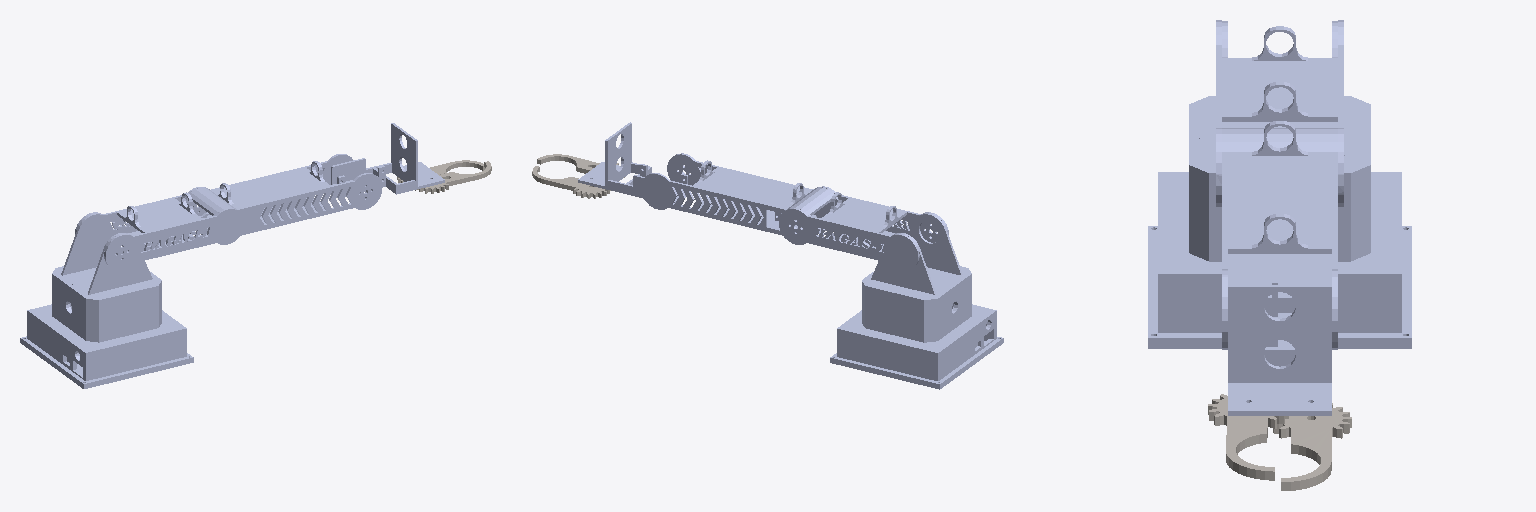
robot.urdf — final:
<?xml version="1.0" encoding="utf-8"?>
<!-- This URDF was automatically created by SolidWorks to URDF Exporter! Originally created by [author] ([email redacted]) 
     Commit Version: 1.6.0-4-g7f85cfe  Build Version: 1.6.7995.38578
     For more information, please see http://wiki.ros.org/sw_urdf_exporter -->
<robot
  name="final">
  <link
    name="base_link">
    <inertial>
      <origin
        xyz="0.00137983216175079 0.000310612881395875 0.0333360553887871"
        rpy="0 0 0" />
      <mass
        value="0.266739387983335" />
      <inertia
        ixx="0.000514301128582685"
        ixy="4.90990868683063E-06"
        ixz="5.29858876653438E-07"
        iyy="0.000513206589601959"
        iyz="1.95354566011673E-06"
        izz="0.000801823035083847" />
    </inertial>
    <visual>
      <origin
        xyz="0 0 0"
        rpy="0 0 0" />
      <geometry>
        <mesh
          filename="package://final/meshes/base_link.STL" />
      </geometry>
      <material
        name="">
        <color
          rgba="0.792156862745098 0.819607843137255 0.933333333333333 1" />
      </material>
    </visual>
    <collision>
      <origin
        xyz="0 0 0"
        rpy="0 0 0" />
      <geometry>
        <mesh
          filename="package://final/meshes/base_link.STL" />
      </geometry>
    </collision>
  </link>
  <link
    name="link1">
    <inertial>
      <origin
        xyz="-6.93889390390723E-18 0.00110733463686402 0.0623788533267749"
        rpy="0 0 0" />
      <mass
        value="0.0312532305229375" />
      <inertia
        ixx="2.68949883948339E-05"
        ixy="-2.49137110664992E-21"
        ixz="-1.5894553410513E-20"
        iyy="1.98163713916657E-05"
        iyz="-9.90514481131139E-07"
        izz="2.89099656219835E-05" />
    </inertial>
    <visual>
      <origin
        xyz="0 0 0"
        rpy="0 0 0" />
      <geometry>
        <mesh
          filename="package://final/meshes/link1.STL" />
      </geometry>
      <material
        name="">
        <color
          rgba="0.792156862745098 0.819607843137255 0.933333333333333 1" />
      </material>
    </visual>
    <collision>
      <origin
        xyz="0 0 0"
        rpy="0 0 0" />
      <geometry>
        <mesh
          filename="package://final/meshes/link1.STL" />
      </geometry>
    </collision>
  </link>
  <joint
    name="joint1"
    type="revolute">
    <origin
      xyz="0 0 0.035"
      rpy="0 0 0" />
    <parent
      link="base_link" />
    <child
      link="link1" />
    <axis
      xyz="0 0 1" />
    <limit
      lower="-3.14"
      upper="3.14"
      effort="2.5"
      velocity="5.7596" />
  </joint>
  <link
    name="link2">
    <inertial>
      <origin
        xyz="0.062504799877127 0.000381539397764002 -0.0284999995745345"
        rpy="0 0 0" />
      <mass
        value="0.0540185355602234" />
      <inertia
        ixx="4.02197758245222E-05"
        ixy="2.18123447228643E-09"
        ixz="-1.41532603052272E-06"
        iyy="0.000113245928040603"
        iyz="-1.40698655562018E-08"
        izz="8.7964337129749E-05" />
    </inertial>
    <visual>
      <origin
        xyz="0 0 0"
        rpy="0 0 0" />
      <geometry>
        <mesh
          filename="package://final/meshes/link2.STL" />
      </geometry>
      <material
        name="">
        <color
          rgba="0.792156862745098 0.819607843137255 0.933333333333333 1" />
      </material>
    </visual>
    <collision>
      <origin
        xyz="0 0 0"
        rpy="0 0 0" />
      <geometry>
        <mesh
          filename="package://final/meshes/link2.STL" />
      </geometry>
    </collision>
  </link>
  <joint
    name="joint2"
    type="revolute">
    <origin
      xyz="0 -0.0285 0.091"
      rpy="1.5707963267949 0 0" />
    <parent
      link="link1" />
    <child
      link="link2" />
    <axis
      xyz="0 0 -1" />
    <limit
      lower="-3.14"
      upper="3.14"
      effort="0.83357"
      velocity="5.235" />
  </joint>
  <link
    name="link3">
    <inertial>
      <origin
        xyz="0.0618698380738331 0.000718290624140139 -0.0296680546046404"
        rpy="0 0 0" />
      <mass
        value="0.0875715440970432" />
      <inertia
        ixx="4.8457891241004E-05"
        ixy="2.61341858466342E-06"
        ixz="8.03903251813451E-06"
        iyy="0.000273784495005672"
        iyz="1.15232697798425E-07"
        izz="0.000252483058227294" />
    </inertial>
    <visual>
      <origin
        xyz="0 0 0"
        rpy="0 0 0" />
      <geometry>
        <mesh
          filename="package://final/meshes/link3.STL" />
      </geometry>
      <material
        name="">
        <color
          rgba="0.792156862745098 0.819607843137255 0.933333333333333 1" />
      </material>
    </visual>
    <collision>
      <origin
        xyz="0 0 0"
        rpy="0 0 0" />
      <geometry>
        <mesh
          filename="package://final/meshes/link3.STL" />
      </geometry>
    </collision>
  </link>
  <joint
    name="joint3"
    type="revolute">
    <origin
      xyz="0.125 0 0.00299999999999999"
      rpy="0 0 0" />
    <parent
      link="link2" />
    <child
      link="link3" />
    <axis
      xyz="0 0 -1" />
    <limit
      lower="-3.14"
      upper="3.14"
      effort="0.83357"
      velocity="5.235" />
  </joint>
  <link
    name="link4">
    <inertial>
      <origin
        xyz="0.0458929710482504 -0.00152506516431959 -0.0331534059376067"
        rpy="0 0 0" />
      <mass
        value="0.0229638191012275" />
      <inertia
        ixx="1.05039174226712E-05"
        ixy="-1.73896755404129E-06"
        ixz="-3.64562006091586E-06"
        iyy="2.5709155903023E-05"
        iyz="-4.52645412187253E-07"
        izz="2.48128813918793E-05" />
    </inertial>
    <visual>
      <origin
        xyz="0 0 0"
        rpy="0 0 0" />
      <geometry>
        <mesh
          filename="package://final/meshes/link4.STL" />
      </geometry>
      <material
        name="">
        <color
          rgba="0.792156862745098 0.819607843137255 0.933333333333333 1" />
      </material>
    </visual>
    <collision>
      <origin
        xyz="0 0 0"
        rpy="0 0 0" />
      <geometry>
        <mesh
          filename="package://final/meshes/link4.STL" />
      </geometry>
    </collision>
  </link>
  <joint
    name="joint4"
    type="revolute">
    <origin
      xyz="0.165000000000001 0 -0.00299999999999999"
      rpy="0 0 0" />
    <parent
      link="link3" />
    <child
      link="link4" />
    <axis
      xyz="0 0 -1" />
    <limit
      lower="-3.14"
      upper="3.14"
      effort="0.83357"
      velocity="5.235" />
  </joint>
  <link
    name="gkanan">
    <inertial>
      <origin
        xyz="0.0159642992625126 0.000850592505426989 -0.0084203598815857"
        rpy="0 0 0" />
      <mass
        value="0.00732945129062791" />
      <inertia
        ixx="5.35749063236515E-07"
        ixy="-1.31542643532986E-07"
        ixz="4.24571645873486E-09"
        iyy="4.23014534162916E-06"
        iyz="3.67609413372105E-10"
        izz="4.73505885370879E-06" />
    </inertial>
    <visual>
      <origin
        xyz="0 0 0"
        rpy="0 0 0" />
      <geometry>
        <mesh
          filename="package://final/meshes/gkanan.STL" />
      </geometry>
      <material
        name="">
        <color
          rgba="0.776470588235294 0.756862745098039 0.737254901960784 1" />
      </material>
    </visual>
    <collision>
      <origin
        xyz="0 0 0"
        rpy="0 0 0" />
      <geometry>
        <mesh
          filename="package://final/meshes/gkanan.STL" />
      </geometry>
    </collision>
  </link>
  <joint
    name="gkanan"
    type="revolute">
    <origin
      xyz="0.0851699999999995 -0.0240000000000557 -0.013"
      rpy="1.5707963267949 0 0" />
    <parent
      link="link4" />
    <child
      link="gkanan" />
    <axis
      xyz="0 0 -1" />
    <limit
      lower="-3.14"
      upper="3.14"
      effort="0.21575"
      velocity="10.47" />
  </joint>
  <link
    name="ekanan">
    <inertial>
      <origin
        xyz="-0.383442595570996 -0.00261177879175256 0.03689171068001"
        rpy="0 0 0" />
      <mass
        value="0.507351302161271" />
      <inertia
        ixx="0.00164241212207521"
        ixy="1.92589983799986E-06"
        ixz="0.00170813773326537"
        iyy="0.00781360970019299"
        iyz="6.63337511433946E-06"
        izz="0.0071709434753862" />
    </inertial>
    <visual>
      <origin
        xyz="0 0 0"
        rpy="0 0 0" />
      <geometry>
        <mesh
          filename="package://final/meshes/ekanan.STL" />
      </geometry>
      <material
        name="">
        <color
          rgba="1 1 1 1" />
      </material>
    </visual>
    <collision>
      <origin
        xyz="0 0 0"
        rpy="0 0 0" />
      <geometry>
        <mesh
          filename="package://final/meshes/ekanan.STL" />
      </geometry>
    </collision>
  </link>
  <joint
    name="ekanan"
    type="fixed">
    <origin
      xyz="0.0753678237632636 -0.013026555231129 -0.00600000000005559"
      rpy="0 0 0" />
    <parent
      link="gkanan" />
    <child
      link="ekanan" />
    <axis
      xyz="0 0 0" />
  </joint>
  <link
    name="gkiri">
    <inertial>
      <origin
        xyz="0.015441848602808 -0.000441408547821209 -0.00249999999999767"
        rpy="0 0 0" />
      <mass
        value="0.00791213848047539" />
      <inertia
        ixx="5.36090893760445E-07"
        ixy="3.55375946253259E-08"
        ixz="-8.24701309959907E-23"
        iyy="4.29636755825826E-06"
        iyz="-5.86225944539181E-23"
        izz="4.79949120835006E-06" />
    </inertial>
    <visual>
      <origin
        xyz="0 0 0"
        rpy="0 0 0" />
      <geometry>
        <mesh
          filename="package://final/meshes/gkiri.STL" />
      </geometry>
      <material
        name="">
        <color
          rgba="0.776470588235294 0.756862745098039 0.737254901960784 1" />
      </material>
    </visual>
    <collision>
      <origin
        xyz="0 0 0"
        rpy="0 0 0" />
      <geometry>
        <mesh
          filename="package://final/meshes/gkiri.STL" />
      </geometry>
    </collision>
  </link>
  <joint
    name="gkiri"
    type="revolute">
    <origin
      xyz="0.0851699999999999 -0.0240000000000557 -0.044"
      rpy="1.5707963267949 0 0" />
    <parent
      link="link4" />
    <child
      link="gkiri" />
    <axis
      xyz="0 0 -1" />
    <limit
      lower="-3.14"
      upper="3.14"
      effort="0.21575"
      velocity="10.47" />
  </joint>
  <link
    name="ekiri">
    <inertial>
      <origin
        xyz="-0.383074771807733 0.000361665977119022 0.0308917106799556"
        rpy="0 0 0" />
      <mass
        value="0.507351302161271" />
      <inertia
        ixx="0.00164241212207523"
        ixy="1.9258998379996E-06"
        ixz="0.00170813773326539"
        iyy="0.00781360970019298"
        iyz="6.63337511433952E-06"
        izz="0.00717094347538619" />
    </inertial>
    <visual>
      <origin
        xyz="0 0 0"
        rpy="0 0 0" />
      <geometry>
        <mesh
          filename="package://final/meshes/ekiri.STL" />
      </geometry>
      <material
        name="">
        <color
          rgba="1 1 1 1" />
      </material>
    </visual>
    <collision>
      <origin
        xyz="0 0 0"
        rpy="0 0 0" />
      <geometry>
        <mesh
          filename="package://final/meshes/ekiri.STL" />
      </geometry>
    </collision>
  </link>
  <joint
    name="ekiri"
    type="fixed">
    <origin
      xyz="0.0750000000000001 0.0149999999999995 0"
      rpy="0 0 0" />
    <parent
      link="gkiri" />
    <child
      link="ekiri" />
    <axis
      xyz="0 0 0" />
  </joint>
</robot>

--- What the picture shows (computed from the rendered views, not written in the file) ---
The picture shows the robot from 3 angles, left to right: view 1: azimuth 30°, elevation 25°; view 2: azimuth 150°, elevation 25°; view 3: azimuth 270°, elevation 25°; orthographic projection.
Robot: final — 9 links, 8 joints (6 revolute, 2 fixed); root link base_link; default pose: all joints at 0.
Links seen in each view (by area): view 1: base_link, link3, link2, link1, link4, gkanan; view 2: base_link, link3, link2, link1, link4, gkiri; view 3: base_link, link3, link4, link2, gkiri, gkanan, link1.
Link boxes in pixels (left/top/right/bottom): base_link: left=20, top=266, right=193, bottom=388; link3: left=185, top=154, right=381, bottom=235; link2: left=75, top=187, right=244, bottom=270; link1: left=61, top=213, right=152, bottom=294; link4: left=331, top=123, right=444, bottom=196; gkanan: left=415, top=161, right=491, bottom=193; base_link: left=830, top=266, right=1003, bottom=389; link3: left=641, top=153, right=837, bottom=235; link2: left=779, top=186, right=948, bottom=270; link1: left=871, top=213, right=962, bottom=294; link4: left=578, top=122, right=687, bottom=202; gkiri: left=532, top=166, right=610, bottom=198; base_link: left=1148, top=96, right=1411, bottom=348; link3: left=1222, top=121, right=1337, bottom=349; link4: left=1228, top=277, right=1331, bottom=415; link2: left=1216, top=20, right=1343, bottom=208; gkiri: left=1273, top=403, right=1351, bottom=490; gkanan: left=1208, top=394, right=1288, bottom=480; link1: left=1199, top=21, right=1360, bottom=155.
Size in the robot's own frame: 0.5155 by 0.13 by 0.168 metres.
Meshes: 9 distinct files referenced, 7 mesh visuals loaded (7 binary STL); not drawn: 2 (file found but could not be loaded).
